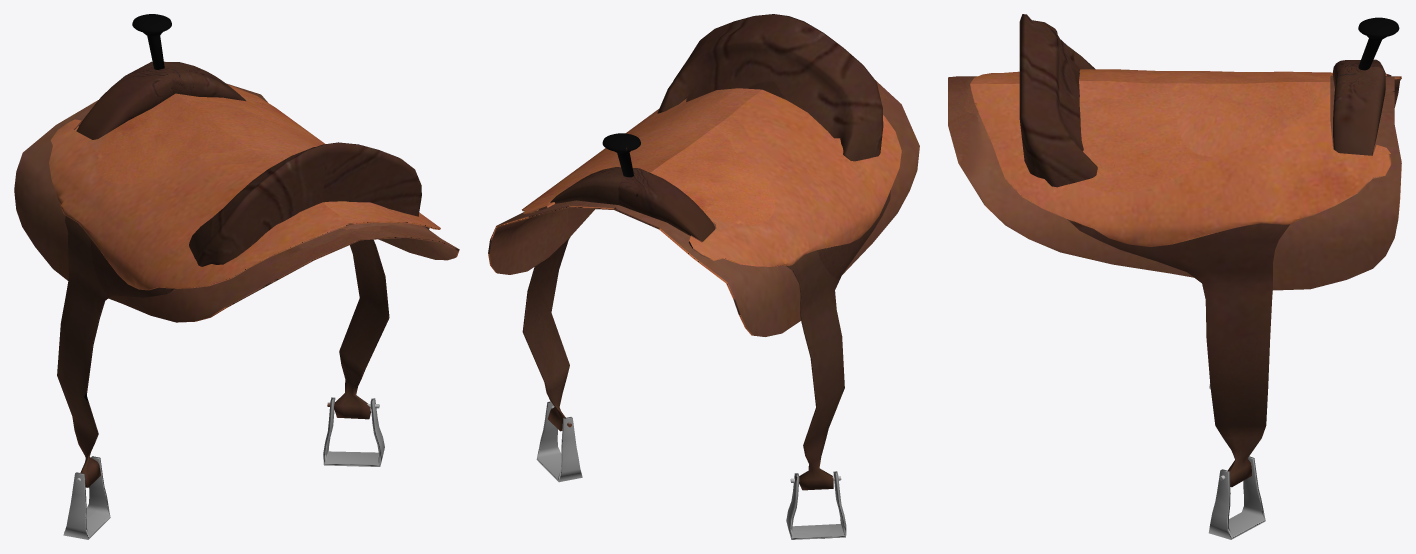
Rendered from Saddle.fbx.
3 views of the same model, side by side, from view 1: azimuth 30°, elevation 25°; view 2: azimuth 150°, elevation 25°; view 3: azimuth 270°, elevation 25° (orthographic). The views are drawn at different scales.
Parts seen in each view (by area): view 1: Plane.002; view 2: Plane.002; view 3: Plane.002.
Part boxes in pixels (x1,y1,x2,y2): Plane.002: (14,14,459,539); Plane.002: (488,14,919,539); Plane.002: (948,14,1401,539).
Size of the model in its own units: 171 by 217 by 203.
Materials: 1 (1 with a texture image).
